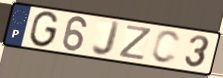3: (182, 34, 211, 70)
6: (61, 15, 88, 53)
C: (150, 29, 183, 66)
G: (27, 10, 61, 49)
J: (90, 20, 122, 58)
Z: (117, 24, 154, 62)
